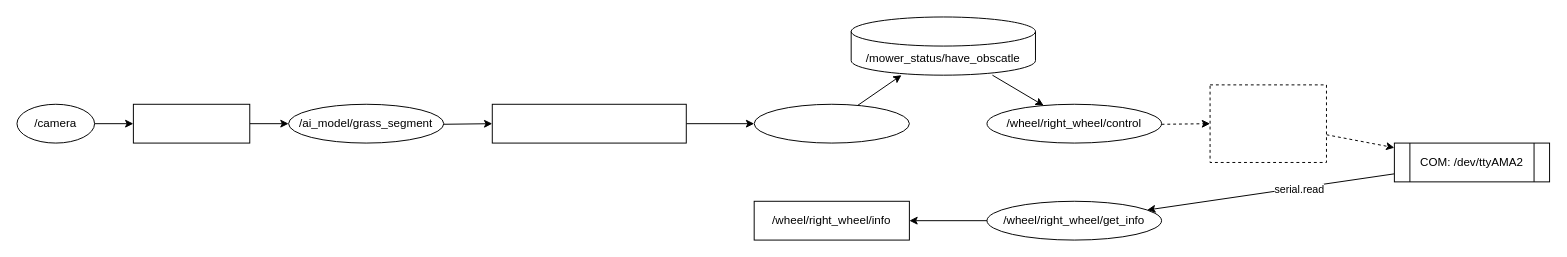
This 1567x257 diagram has some shape labels left out. The shapes that lost their labels are listed below. From the top down, each one's centre as x and y in pixels, then its label:
At [191,123]: "/camera/image_raw".
At [588,123]: "/camera/grass_segment_result".
At [831,123]: "/mower/obscatle_handle".
At [1267,123]: "/motor/start /motor/speed_add /motor/speed_sub /motor/stop /motor/stateshow".
